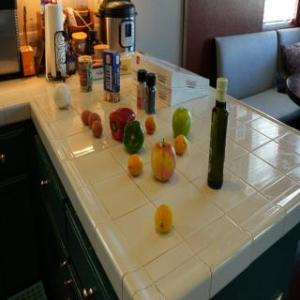bell_pepper: (109, 106, 137, 140), (120, 120, 144, 156)
egg: (89, 121, 103, 140), (85, 114, 100, 130), (80, 109, 92, 126)
onion: (50, 84, 72, 109)
